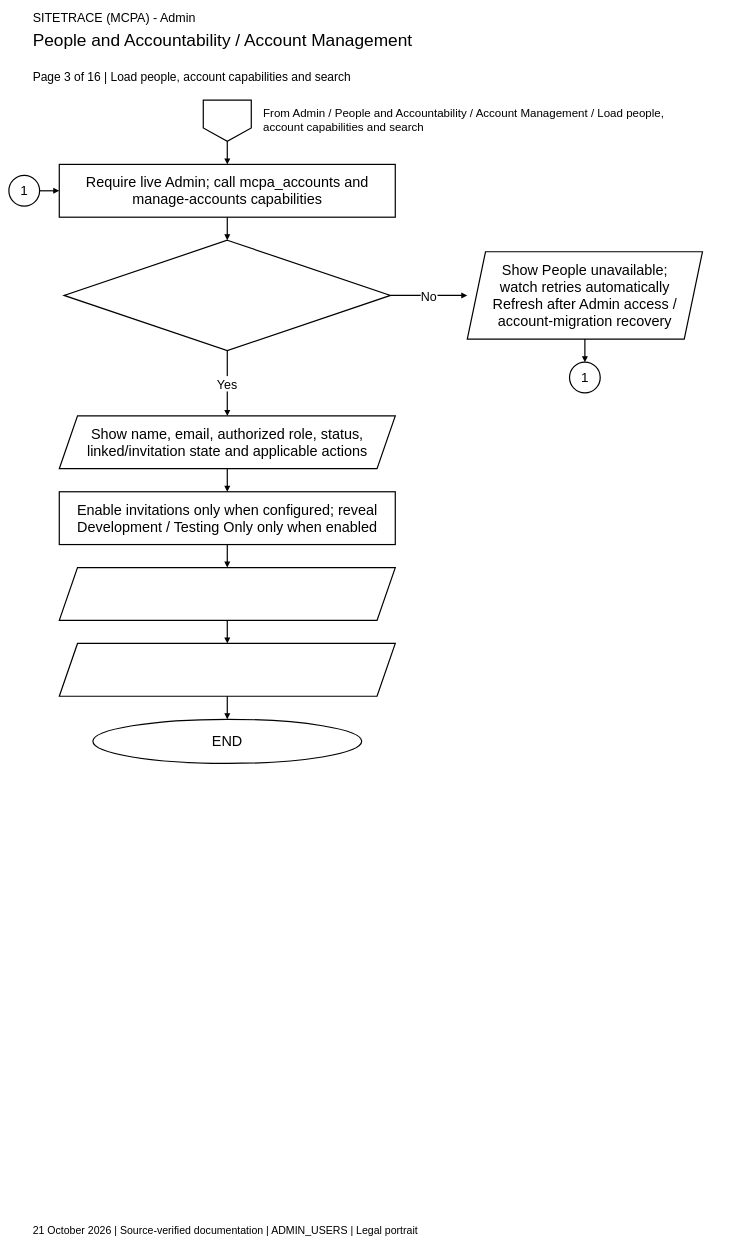
This 747x1248 diagram has some shape labels left out. Each missing label, with the box of its shape:
Company identities and only currently available account actions are displayed.: (58, 643, 396, 697)
EV: (202, 99, 252, 142)
People load?: (63, 239, 391, 351)
Search by name, email or role; show matching people or no-match state: (58, 567, 396, 621)
